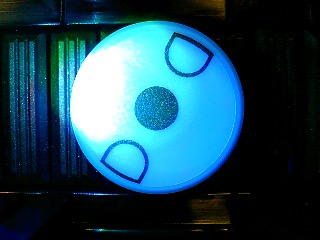BOHOMIPO2: (69, 19, 245, 195)
